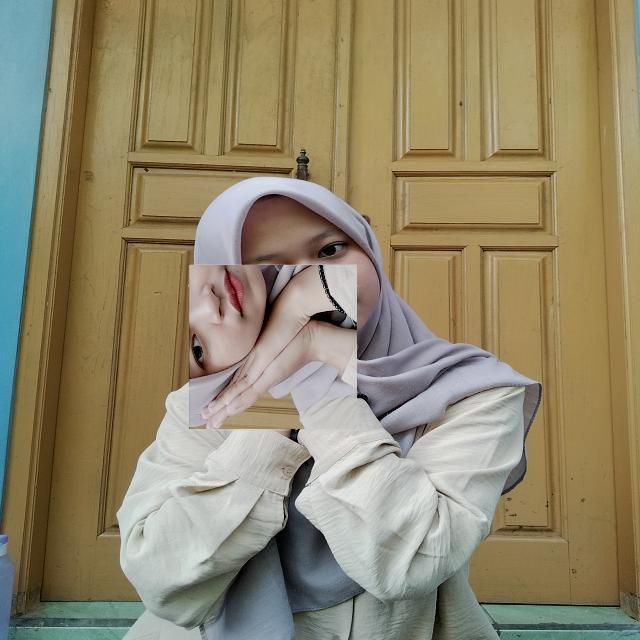tidur: (190, 264, 357, 431)
